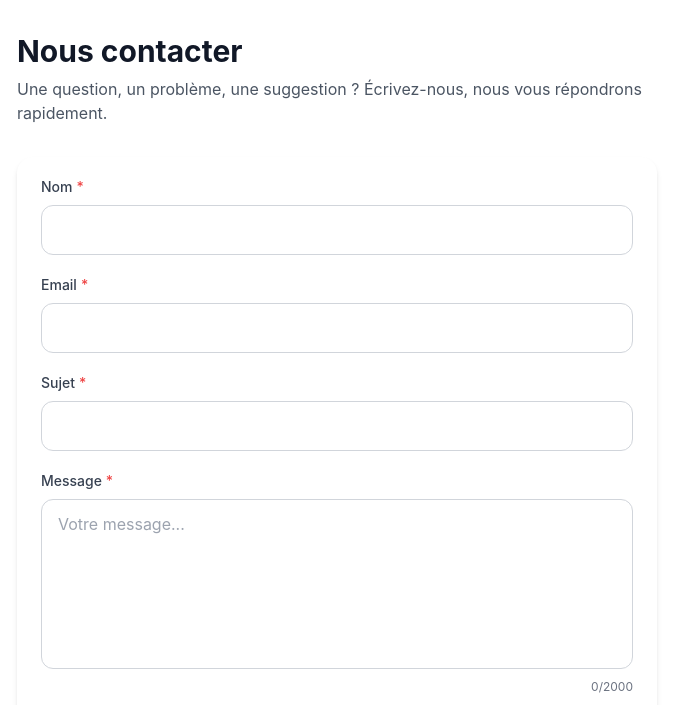
Test: ContactPage › submits the form and shows a confirmation message
Type "Jean Dupont" into the field labelled "Nom*" at coordinates (337, 230), box [41,205,633,255]
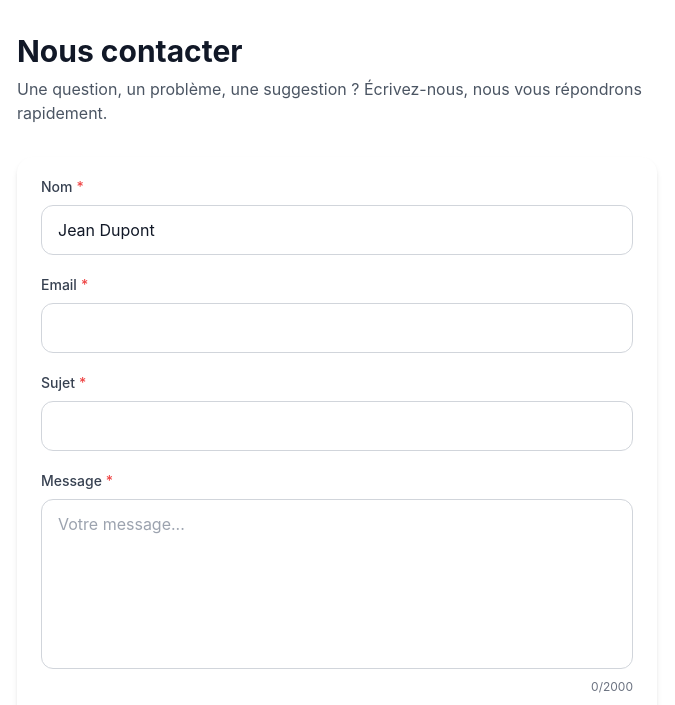
Type "jean@test.com" into the field labelled "Email*" at coordinates (337, 328), box [41,303,633,353]
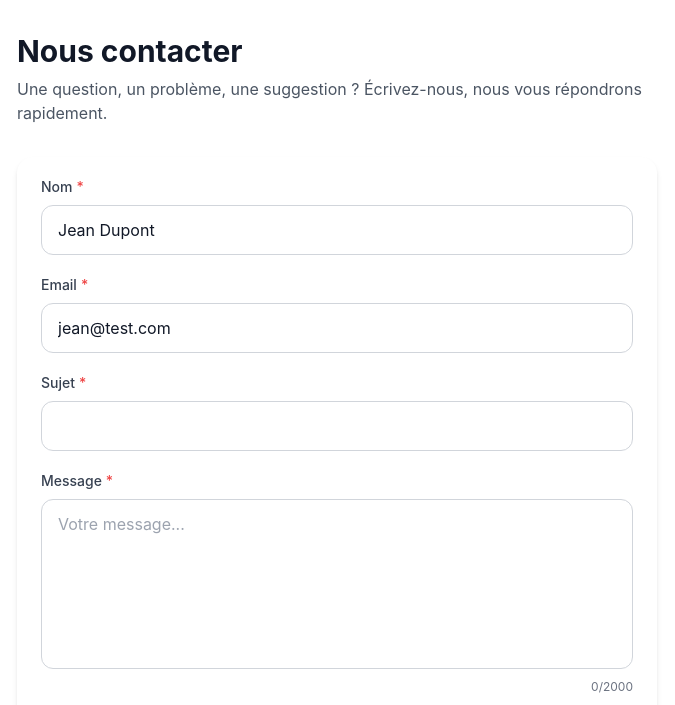
Type "Question sur un événement" into the field labelled "Sujet*" at coordinates (337, 426), box [41,401,633,451]
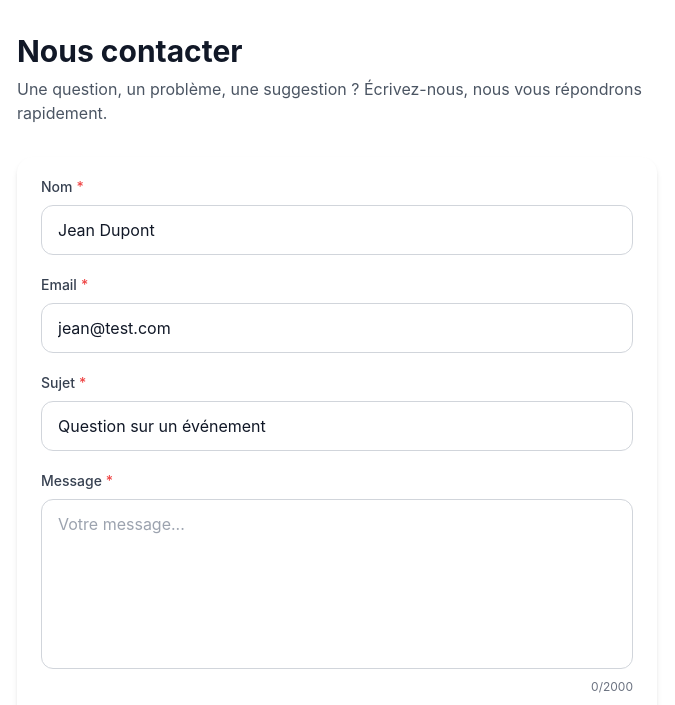
Type "Bonjour, les billets sont-ils remboursables ?" into the text box labelled "Message *" at coordinates (337, 584), box [41,499,633,669]
(page scrolled)
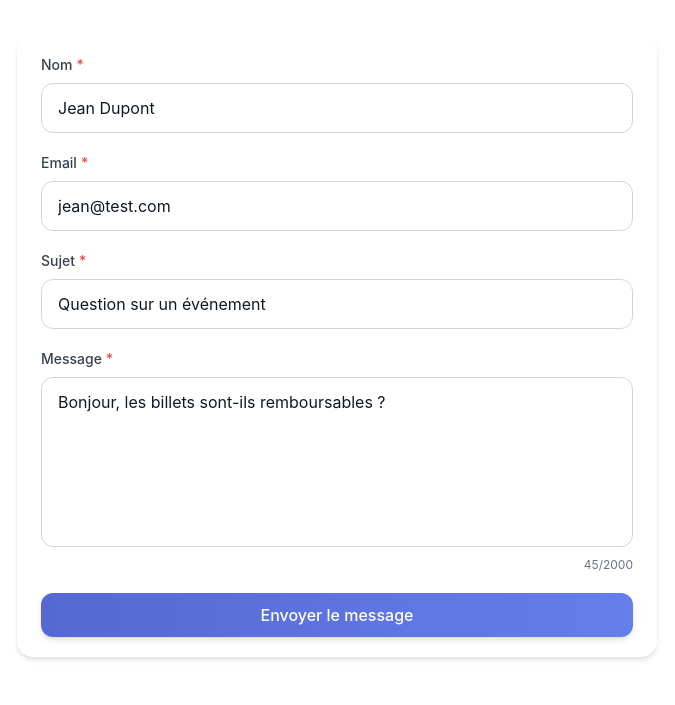
Click the button "Envoyer le message" at coordinates (337, 615), box [41,593,633,637]
(page scrolled)
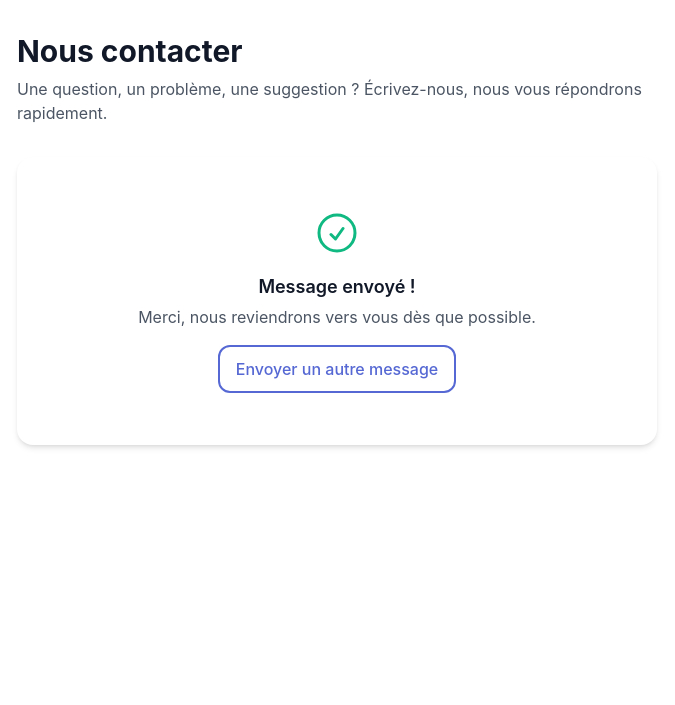
expect the text "Message envoyé !" is shown: met, box [258,276,416,297]
expect the label labelled "Nom" is gone: met
